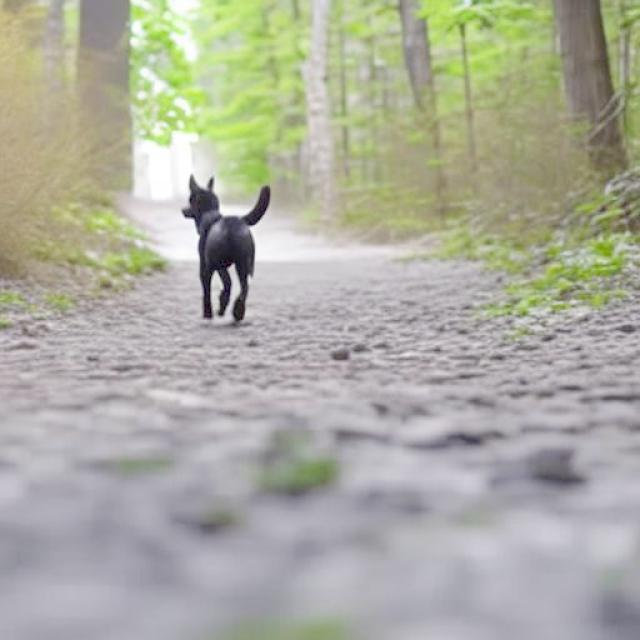Dog: (182, 174, 272, 322)
